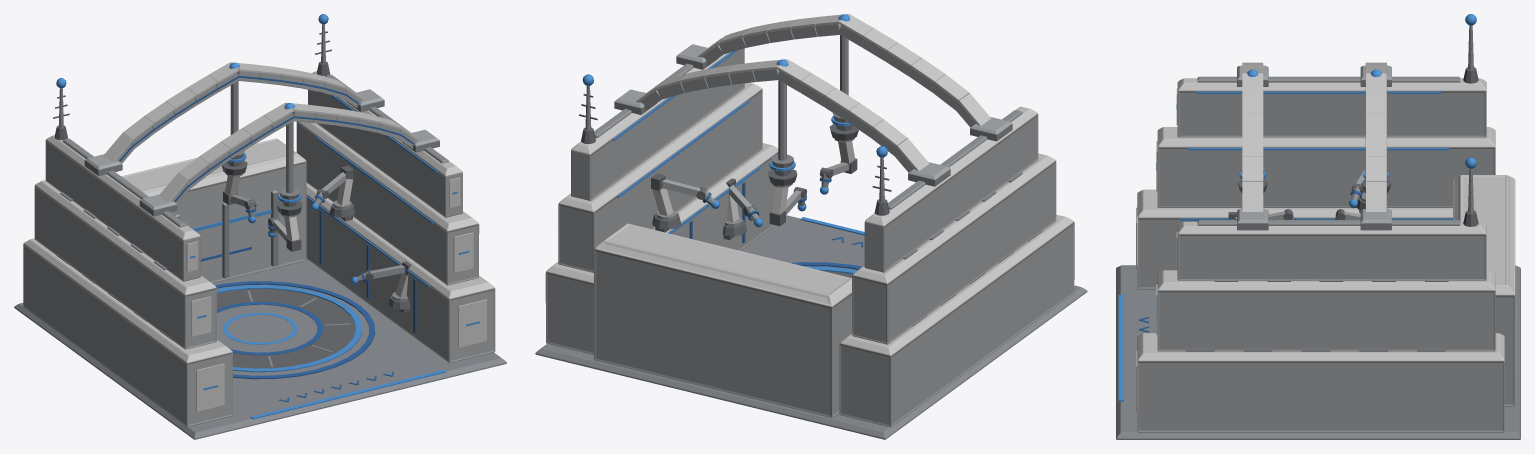
The model's file is lattice_experimental_gantry.glb.
3 renders of one model, left to right at view 1: azimuth 30°, elevation 25°; view 2: azimuth 150°, elevation 25°; view 3: azimuth 270°, elevation 25°, orthographic. The views are drawn at different scales.
Parts seen in each view (by area): view 1: Body; view 2: Body; view 3: Body.
Part boxes in pixels (bbox=[...]): Body: bbox=[14, 14, 506, 439]; Body: bbox=[535, 14, 1087, 439]; Body: bbox=[1116, 14, 1520, 439].
Bounding box in the file's own units: 30.8 × 23.9 × 30.8.
